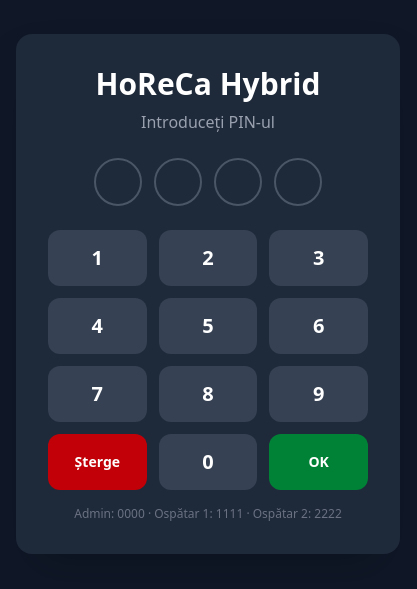
Test: LoginPage › shows error for invalid PIN
The width and height of the screenshot is (417, 589).
Click the button "5".
click(208, 326)  # box [159, 298, 257, 354]
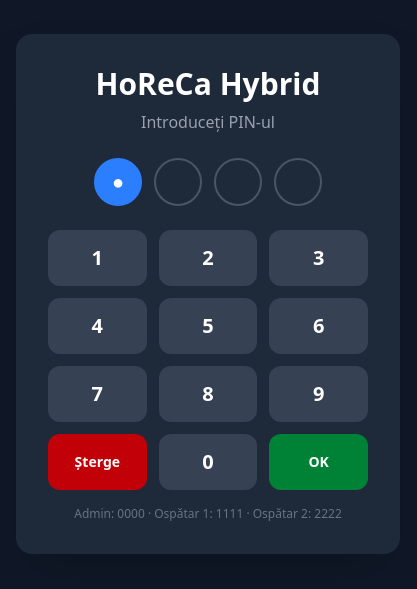
Click the button "5".
click(208, 326)  # box [159, 298, 257, 354]
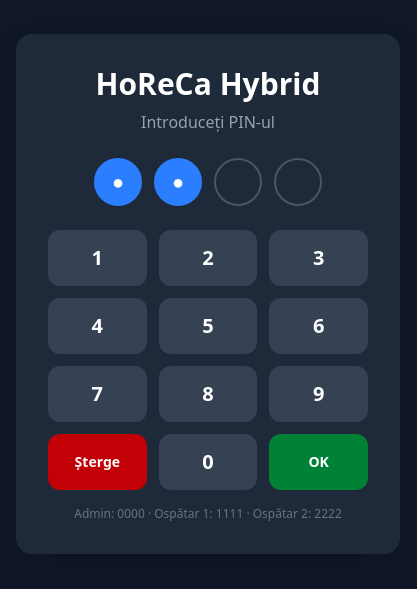
Click the button "5".
click(208, 326)  # box [159, 298, 257, 354]
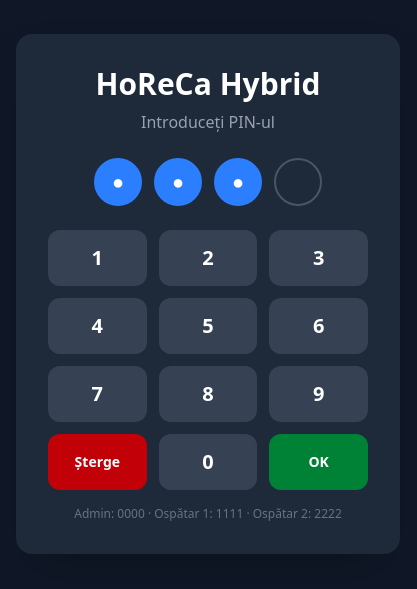
Click the button "5".
click(208, 326)  # box [159, 298, 257, 354]
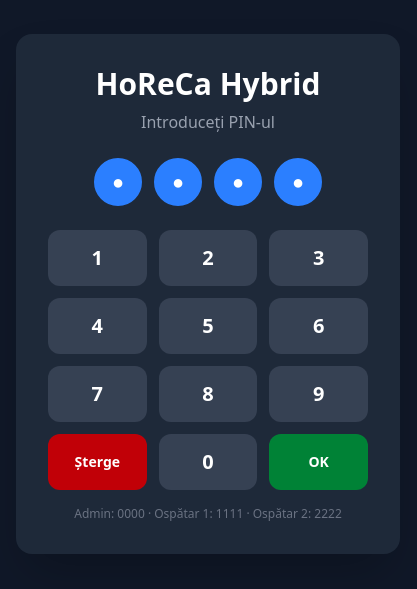
Click the button "OK".
click(319, 462)  # box [269, 434, 368, 490]
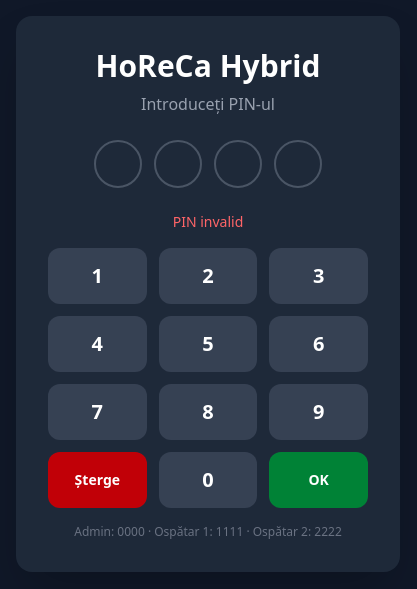
Check: the text "PIN invalid" is shown, box [173, 212, 243, 231]
